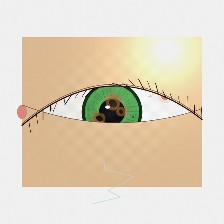foreign_body_visible: (156, 88, 175, 103)
